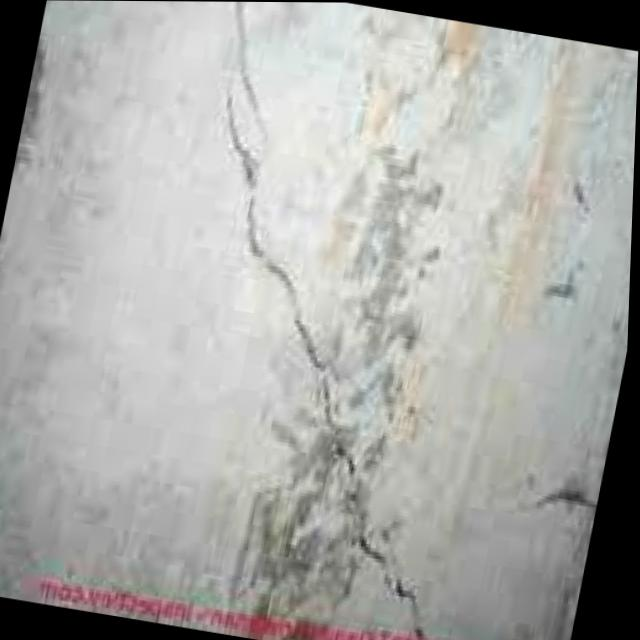Crack: (235, 191, 634, 360)
